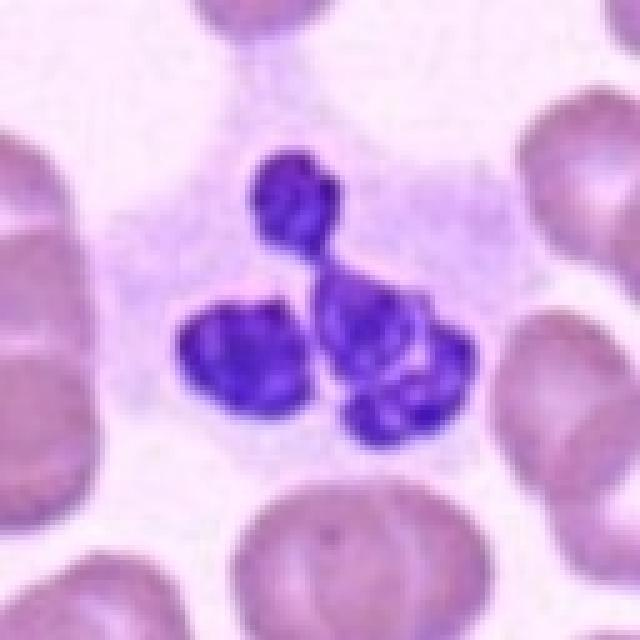neutro: (170, 63, 582, 498)
